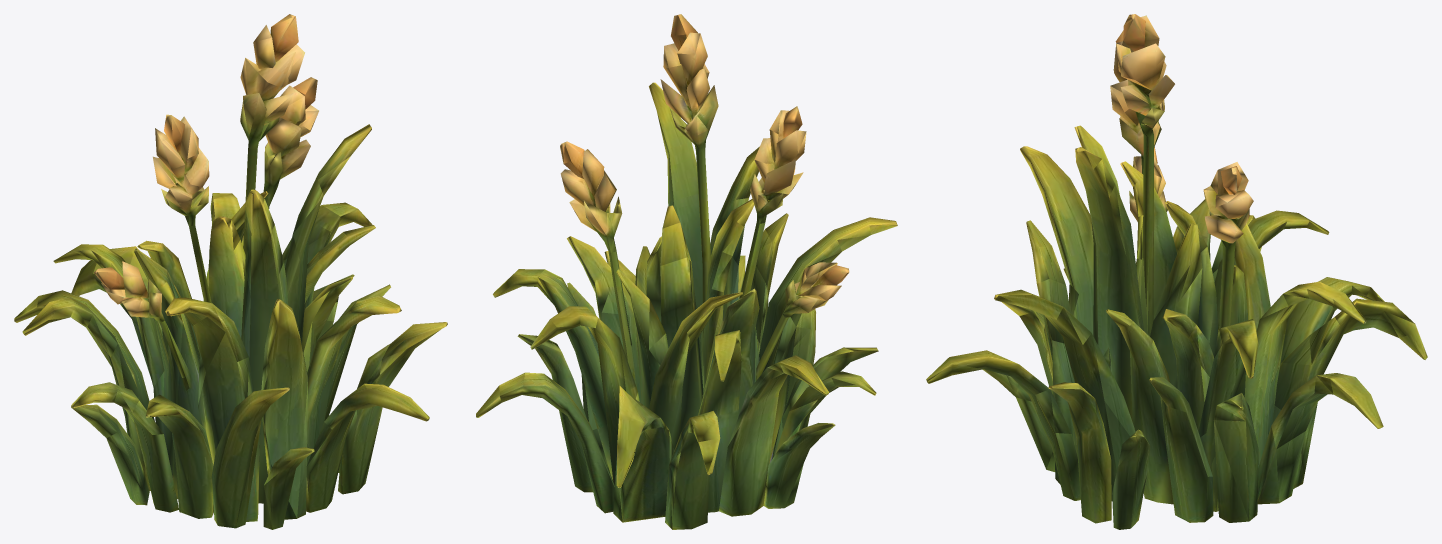
The model's file is tall_grass_clump.glb.
The picture shows the model from 3 angles, left to right: view 1: azimuth 30°, elevation 25°; view 2: azimuth 150°, elevation 25°; view 3: azimuth 270°, elevation 25°; orthographic projection. The views are drawn at different scales.
Parts seen in each view (by area): view 1: tall_grass_clump; view 2: tall_grass_clump; view 3: tall_grass_clump.
Part boxes in pixels (x1=…): tall_grass_clump: x1=14, y1=14, x2=447, y2=529; tall_grass_clump: x1=476, y1=14, x2=897, y2=529; tall_grass_clump: x1=926, y1=14, x2=1427, y2=529.
Size of the model in its own units: 0.4306 by 0.55 by 0.5192.
1 material, 1 textured.
